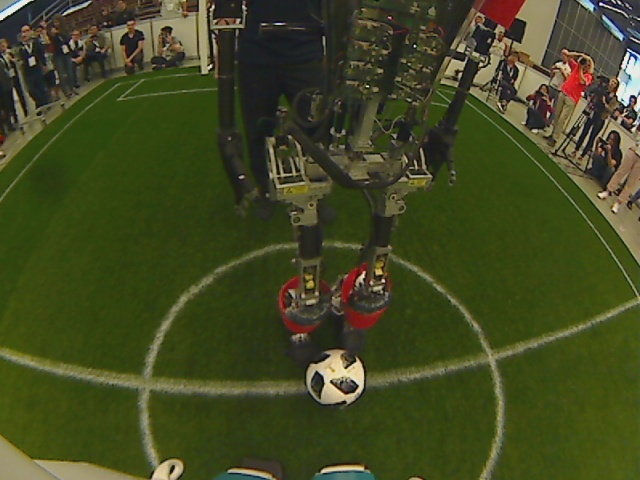ball: (303, 349, 369, 409)
